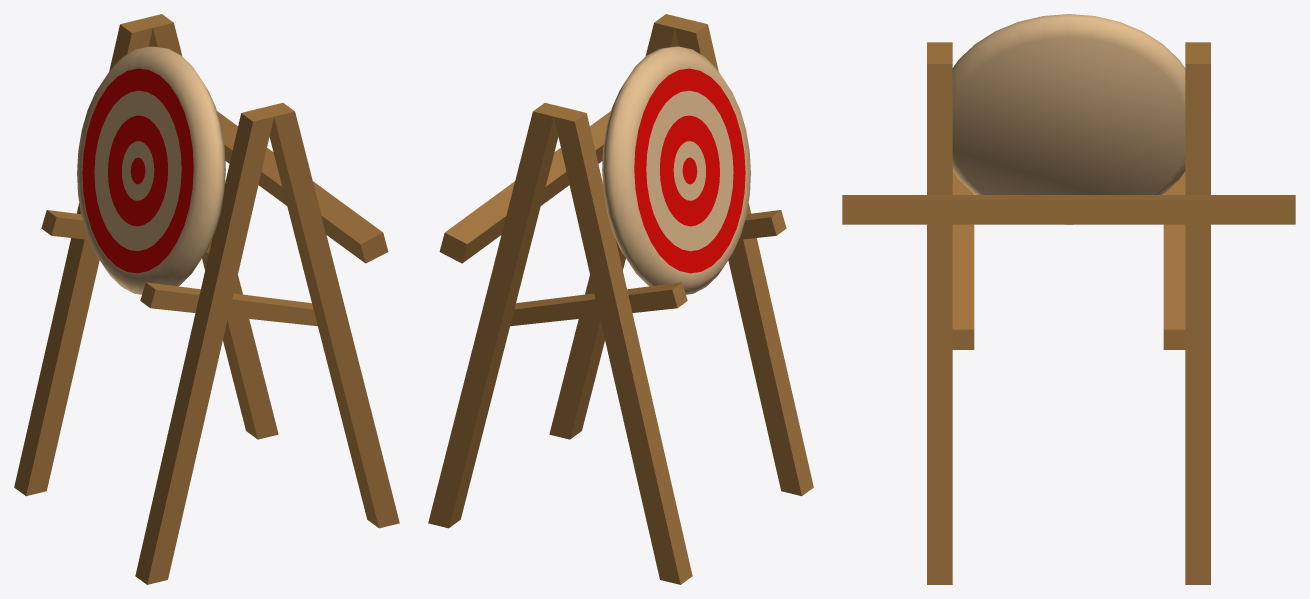
Rendered from Target.fbx.
3 renders of one model, left to right at view 1: azimuth 30°, elevation 25°; view 2: azimuth 150°, elevation 25°; view 3: azimuth 270°, elevation 25°, orthographic. The views are drawn at different scales.
Parts seen in each view (by area): view 1: Cube, Cylinder; view 2: Cube, Cylinder; view 3: Cube, Cylinder.
Part boxes in pixels (x1=…): Cube: x1=14, y1=14, x2=399, y2=584; Cylinder: x1=77, y1=46, x2=225, y2=294; Cube: x1=428, y1=14, x2=813, y2=584; Cylinder: x1=602, y1=46, x2=750, y2=294; Cube: x1=842, y1=42, x2=1295, y2=584; Cylinder: x1=952, y1=14, x2=1185, y2=224.
Size of the model in its own units: 241 by 417 by 351.
